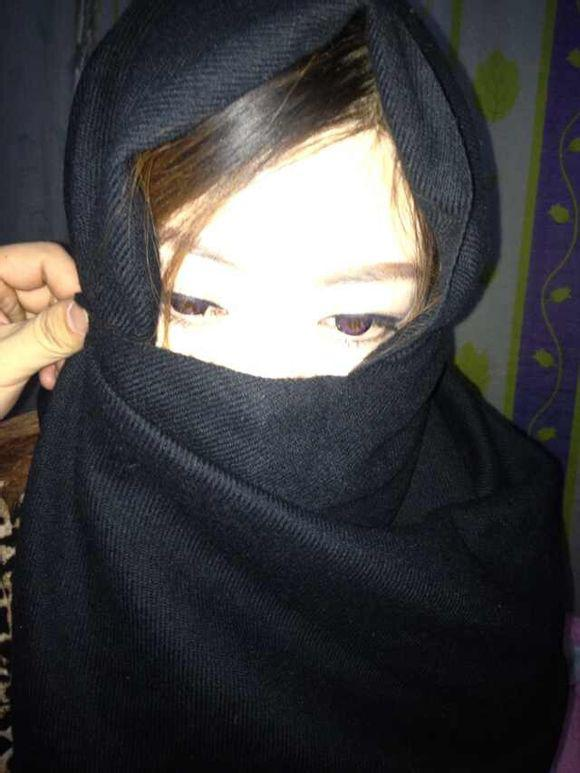OK: (126, 207, 438, 519)
